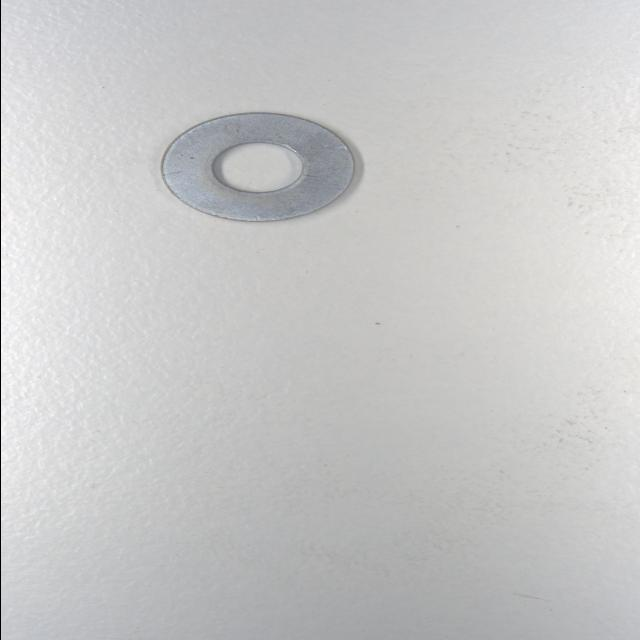washer: (156, 112, 356, 224)
